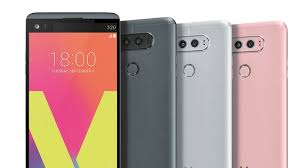lg: (21, 6, 123, 165)
